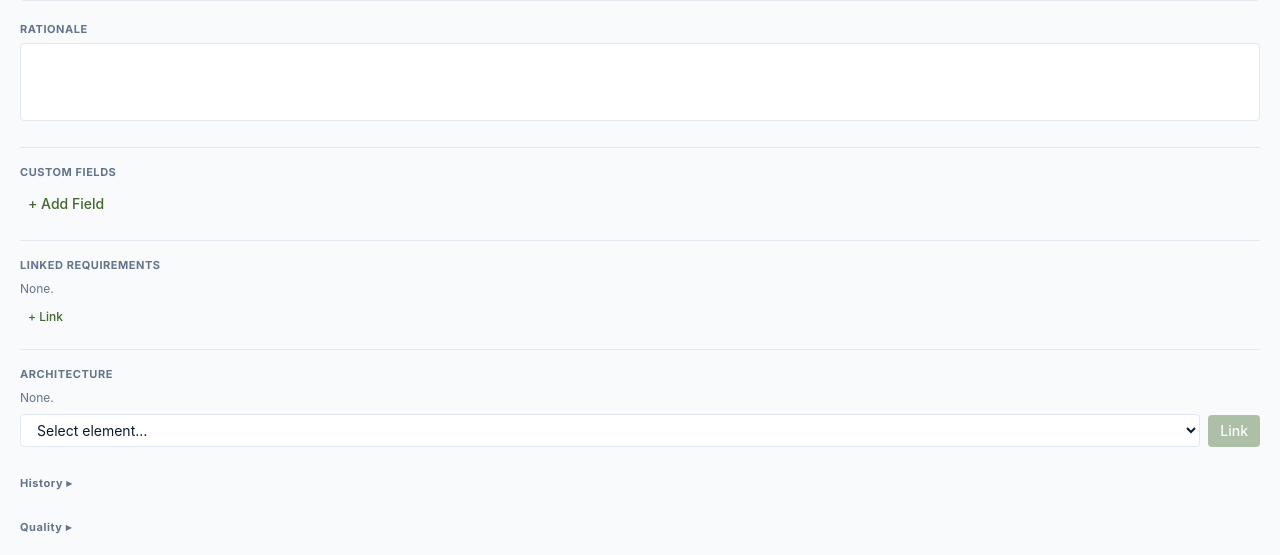
Test: RequirementDetail quality section › renders lint findings for a problematic requirement
(page scrolled)
Click the button "Quality ▸". click: (46, 527)
box: 20,519 -> 72,535
(page scrolled)
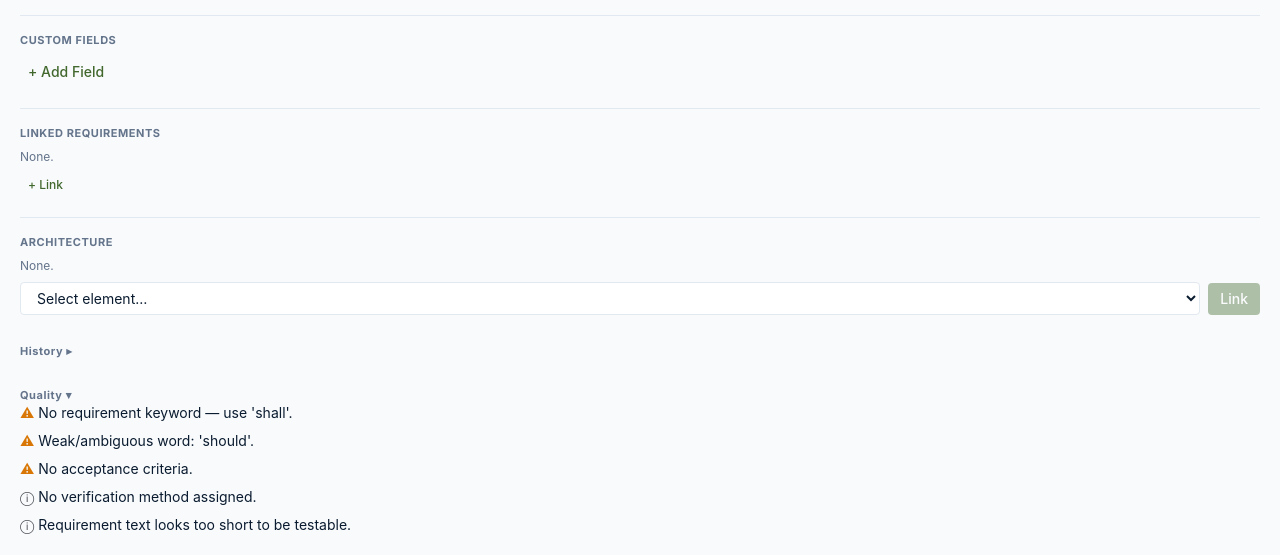
Expected: the list item "⚠ No requirement keyword — use 'shall'." is shown, 20,404 -> 293,421
Expected: the list item "⚠ Weak/ambiguous word: 'should'." is shown, 20,432 -> 254,449
Expected: the list item "⚠ No acceptance criteria." is shown, 20,460 -> 193,477
